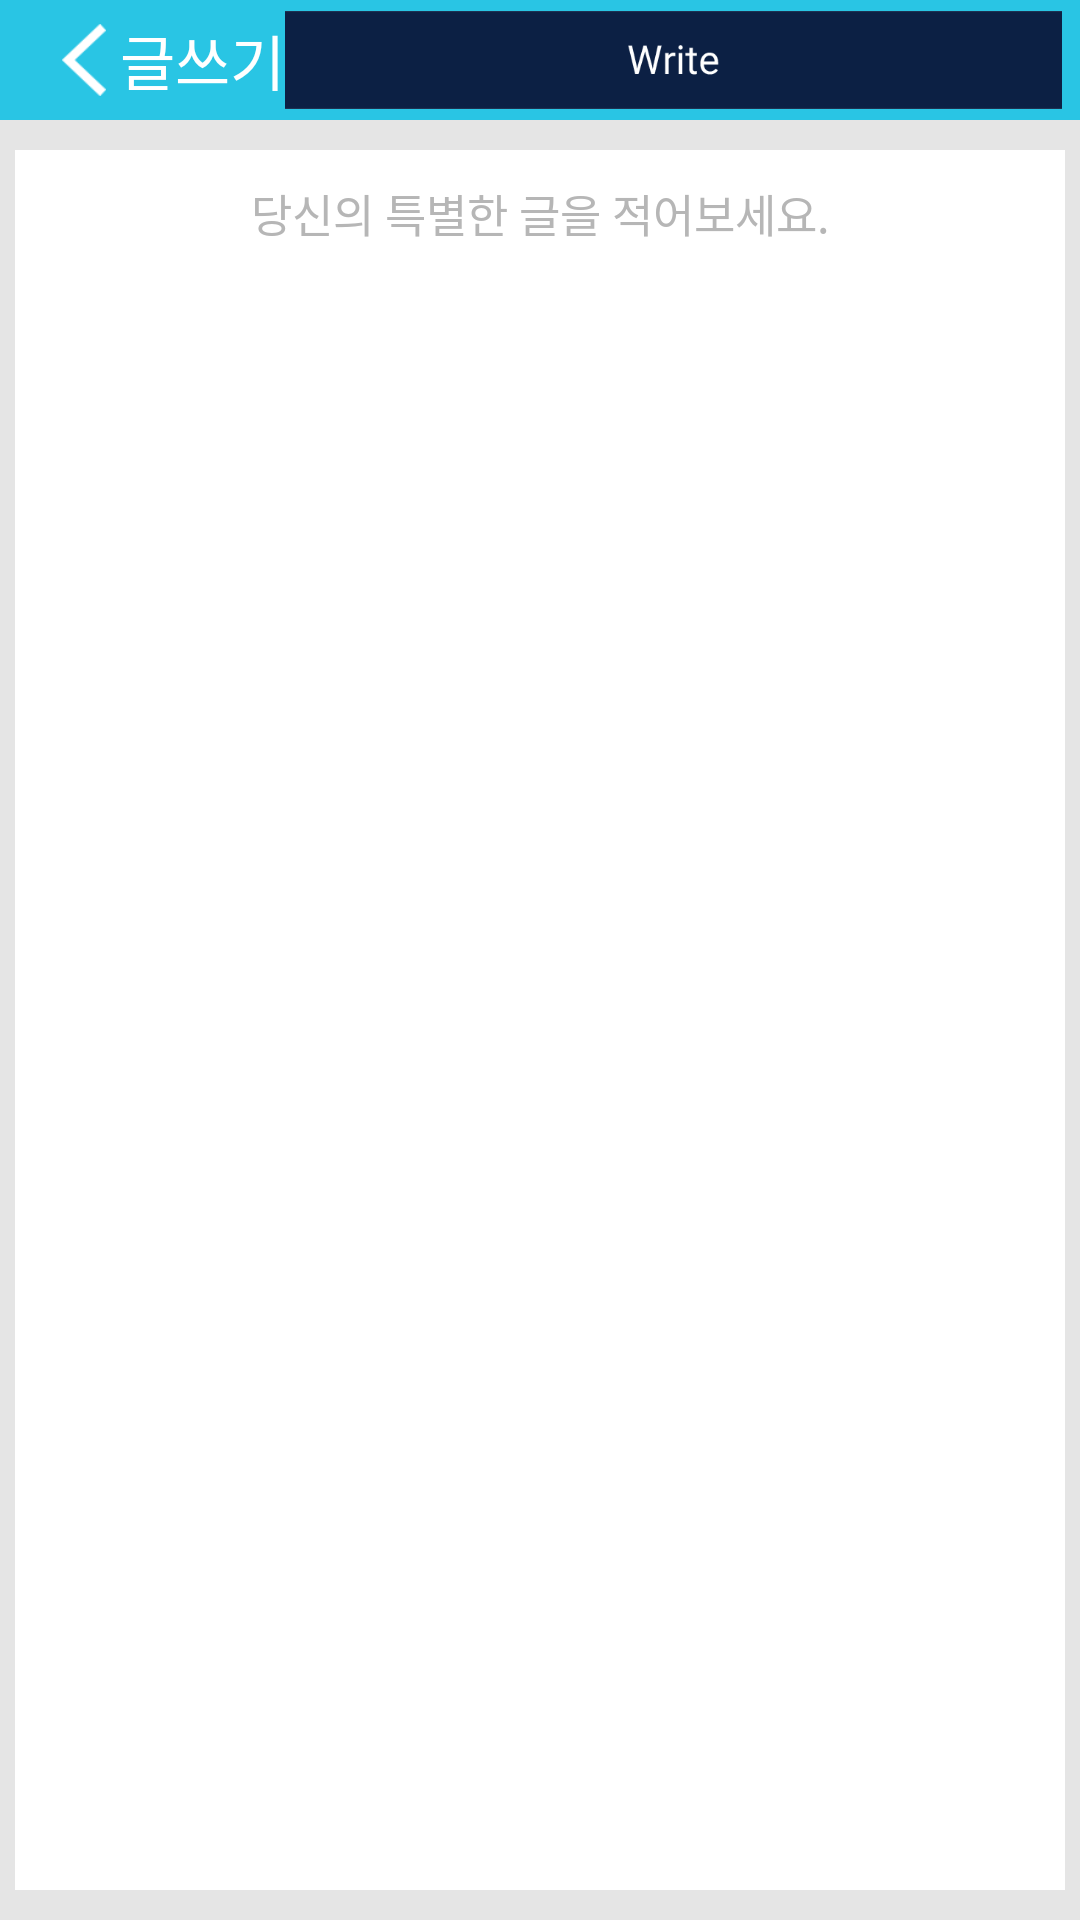

Screen size 1080 × 1920. Icon name, then its box in pixels as [x1, y1, x2, y2]:
booth back: [62, 24, 106, 96]
